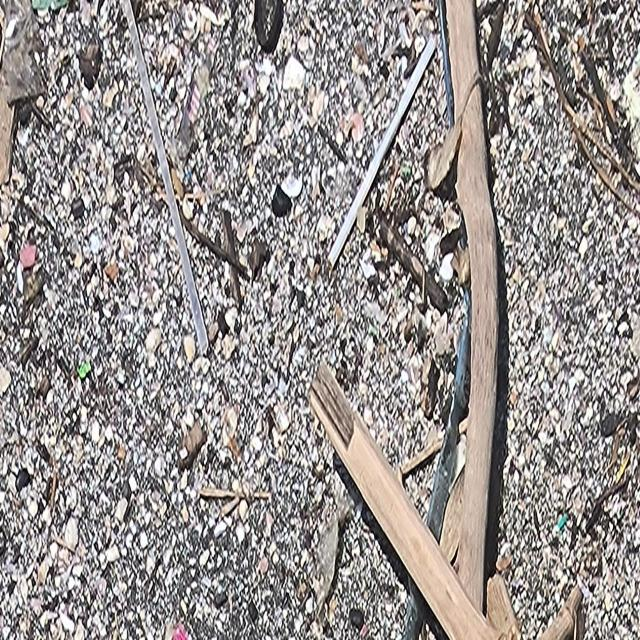plastic_waste: (125, 3, 209, 356), (329, 39, 437, 270)
